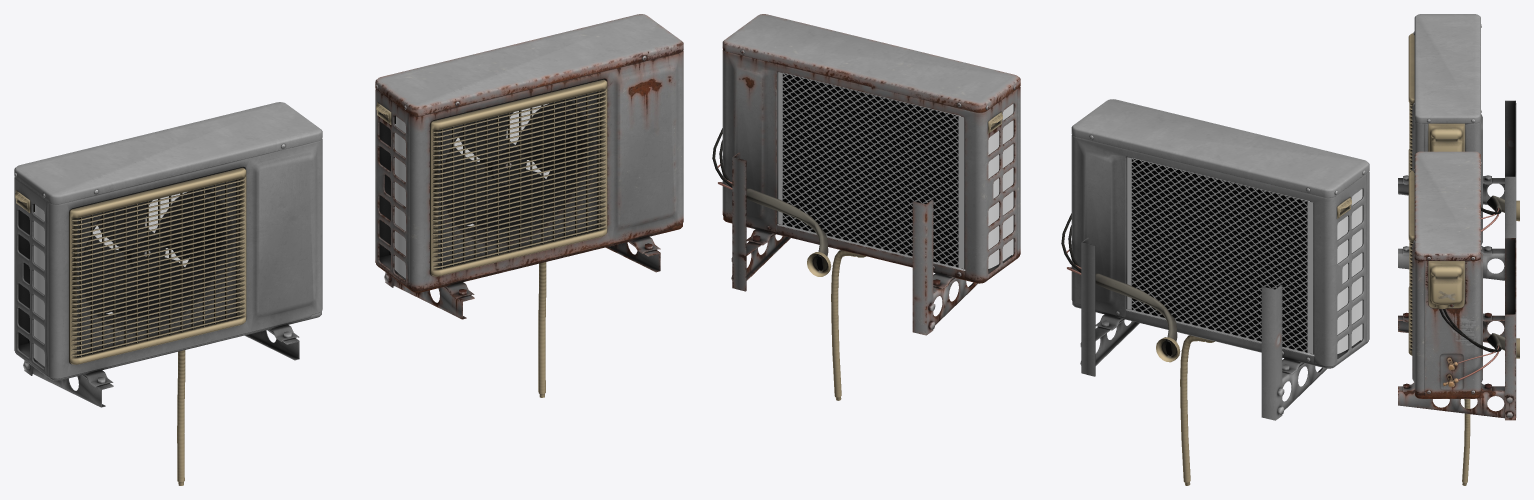
The model's file is exterior_aircon_unit.glb.
3 views of the same model, side by side, from view 1: azimuth 30°, elevation 25°; view 2: azimuth 150°, elevation 25°; view 3: azimuth 270°, elevation 25° (orthographic). The views are drawn at different scales.
Visible parts, largest first — view 1: exterior_aircon_unit_rusted, exterior_aircon_unit; view 2: exterior_aircon_unit, exterior_aircon_unit_rusted; view 3: exterior_aircon_unit_rusted, exterior_aircon_unit.
Part boxes in pixels (box(x1,y1,x2,y2)): exterior_aircon_unit_rusted: box(375, 14, 683, 397); exterior_aircon_unit: box(14, 102, 322, 485); exterior_aircon_unit: box(1061, 99, 1369, 485); exterior_aircon_unit_rusted: box(712, 14, 1020, 400); exterior_aircon_unit_rusted: box(1398, 151, 1519, 485); exterior_aircon_unit: box(1398, 14, 1519, 280).
Bounding box in the file's own units: 1.8 × 0.9279 × 0.3742.
Materials: 4 (4 with a texture image).
